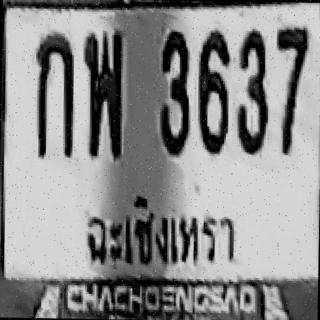A01: (32, 31, 74, 157)
A30: (82, 29, 124, 153)
N03: (235, 28, 270, 156), (158, 29, 191, 155)
N06: (196, 29, 230, 155)
N07: (274, 25, 308, 134), (275, 25, 308, 109)
P07: (74, 187, 243, 277)
